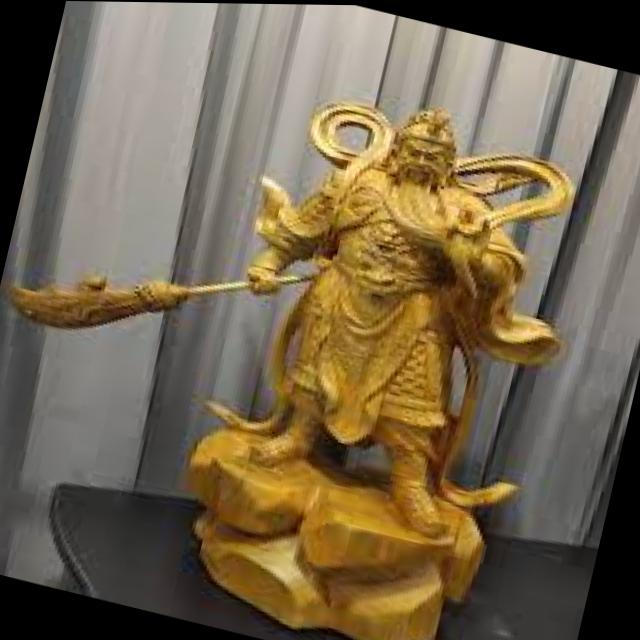Guan Yu: (194, 69, 562, 540)
